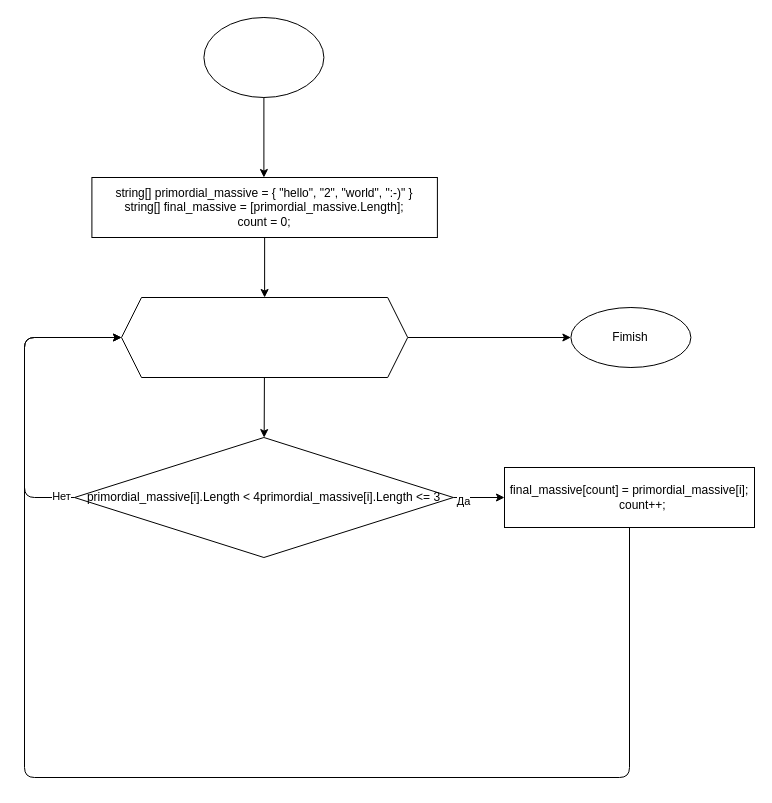
The diagram is 772 pixels wide and 803 high, and some of its shapes have lost their labels. The shapes that lost their labels are listed below. From the top down, each one's box as (x1, y1, x2, y2) in pixels, then its label:
(203, 16, 324, 98): Start
(120, 296, 408, 378): i, 0, primordial_massive.Length
